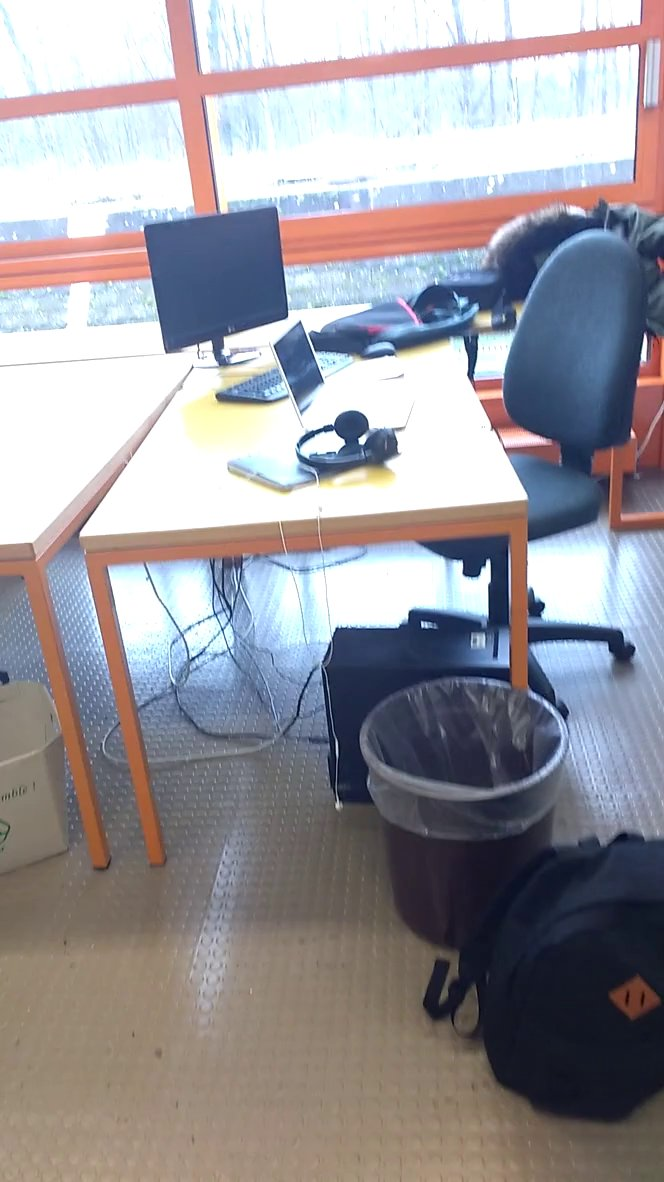bag: (415, 818, 664, 1137)
bin: (354, 667, 584, 978)
chair: (424, 222, 652, 666)
laptop: (265, 307, 446, 441)
